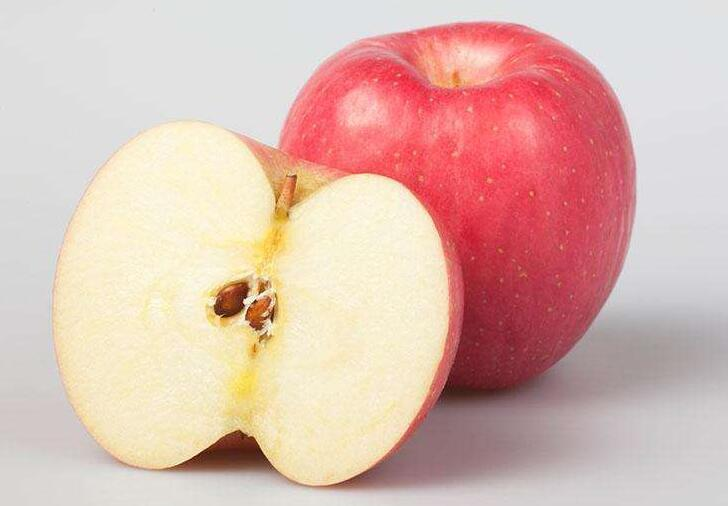apple: (46, 116, 463, 482), (275, 18, 638, 395)
